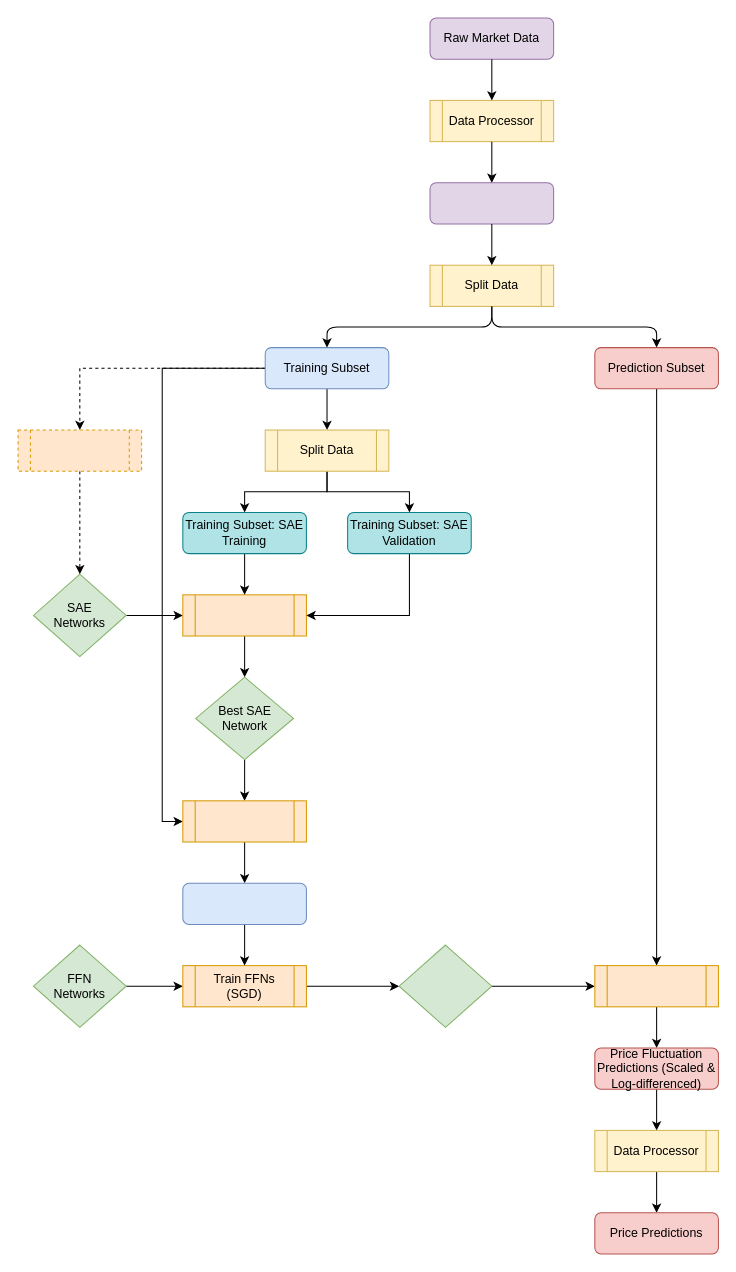
This 736x1272 diagram has some shape labels left out. Each missing label, with the centre of its shape:
Encode Training Dataset: the point at 244,821
Encoded Training Subset: the point at 244,903
Possible RBM Pre-training: the point at 79,450
Processed Log Difference Data: the point at 491,203
SGD Trained FFN: the point at 445,985
Train FFN (OGD): the point at 656,986
Train SAEs (SGD): the point at 244,615
